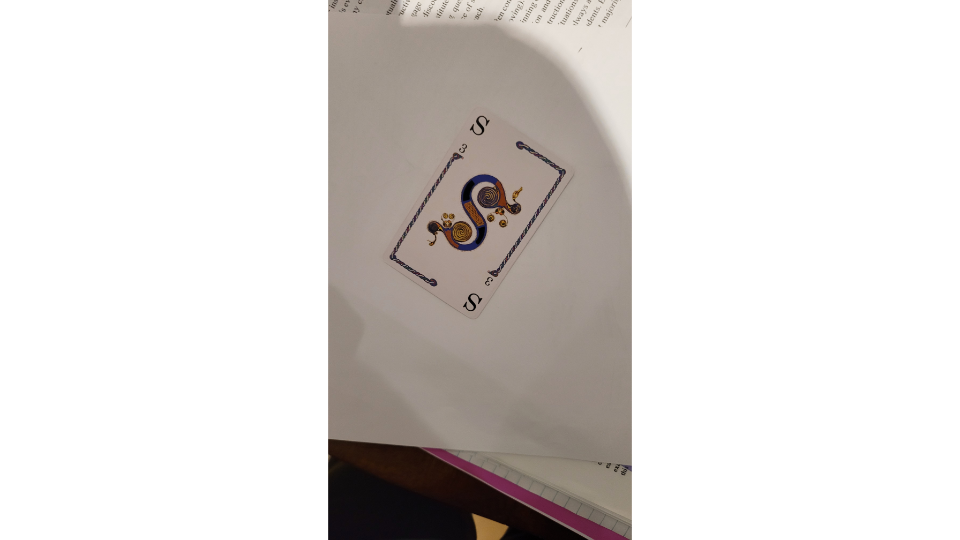S: (380, 103, 580, 323)
